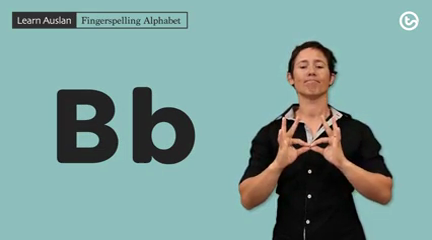B: (268, 113, 346, 168)
